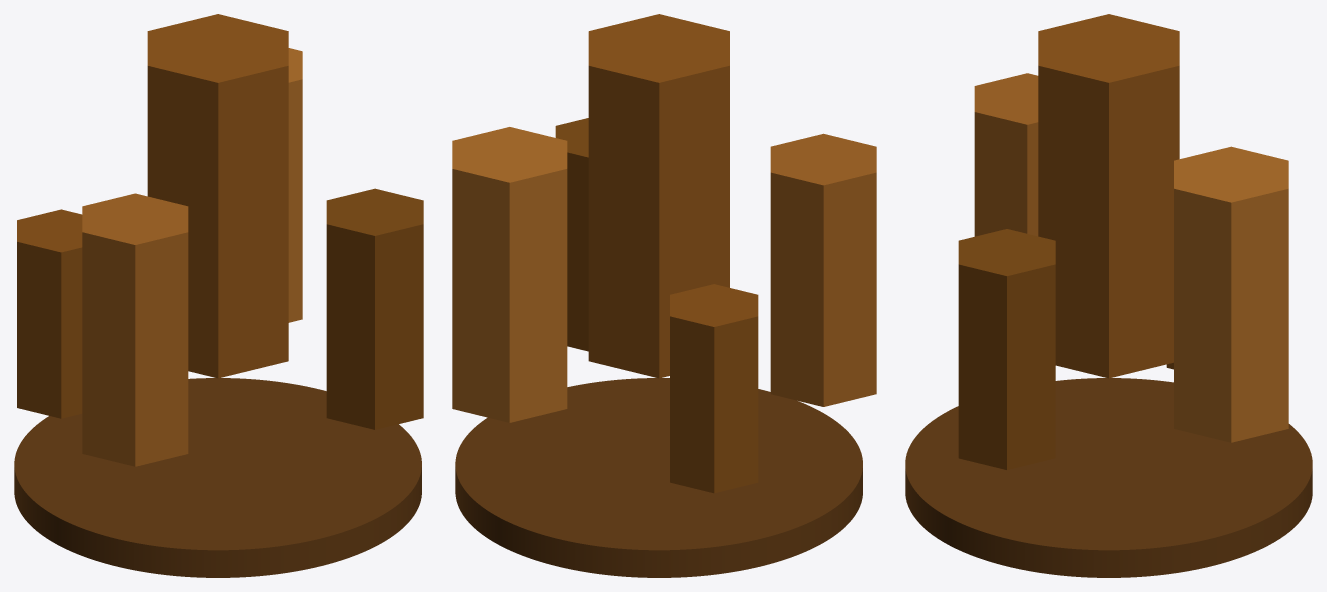
Rendered from toprak.glb.
The picture shows the model from 3 angles, left to right: view 1: azimuth 30°, elevation 25°; view 2: azimuth 150°, elevation 25°; view 3: azimuth 270°, elevation 25°; orthographic projection.
Size of the model in its own units: 0.04 by 0.048 by 0.04.
